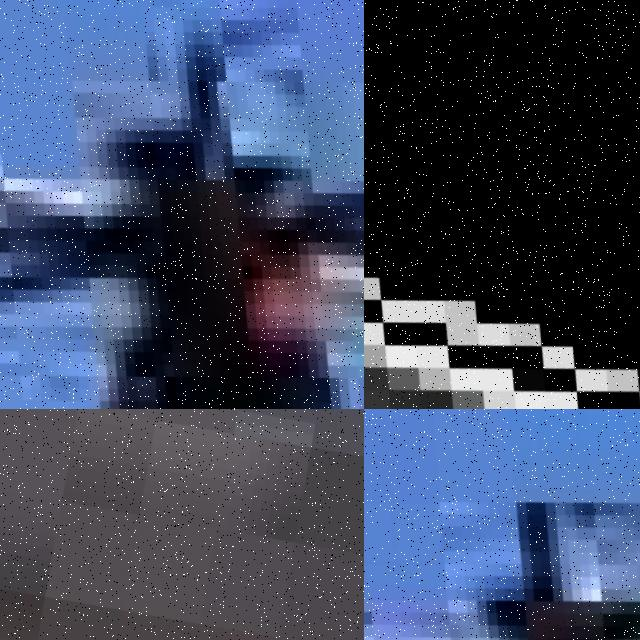0: (0, 0, 364, 409), (364, 409, 640, 640)
drone: (364, 0, 640, 409)
